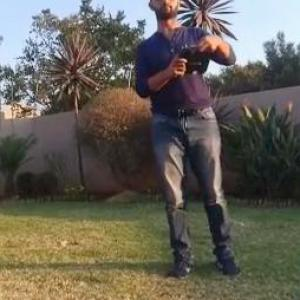follow: (129, 0, 247, 281)
